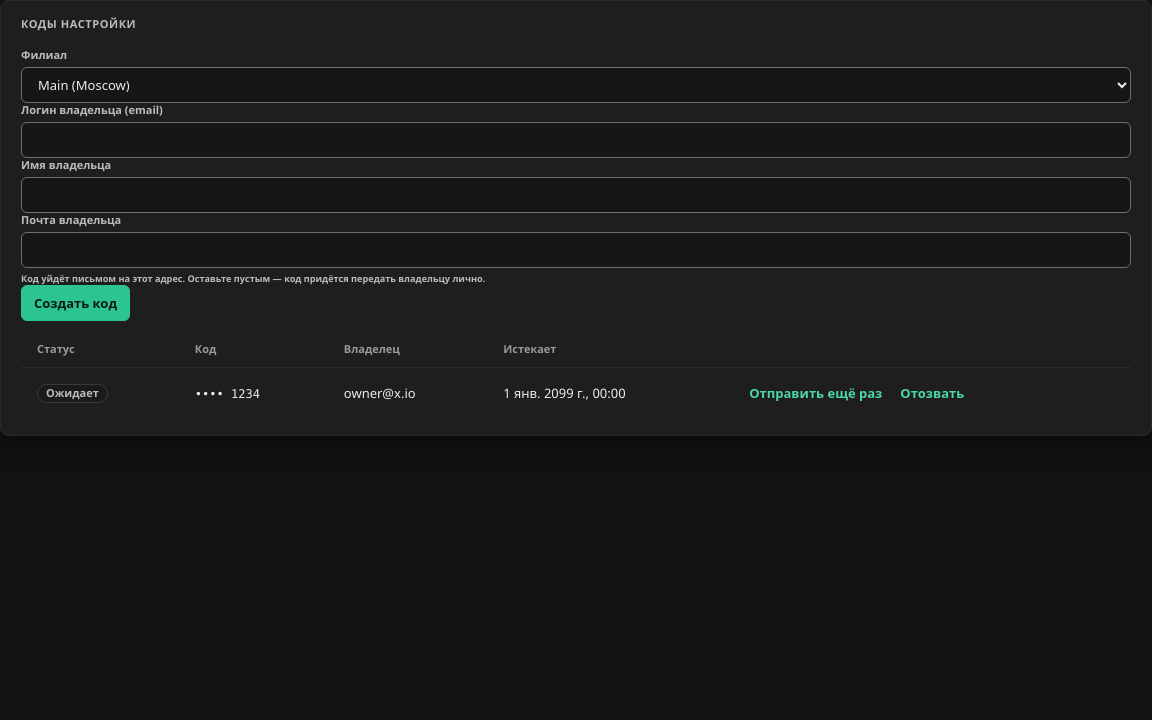
Test: отправляет письмо повторно и показывает короткое подтверждение
The image size is (1152, 720).
Click the button "Отправить ещё раз" at [816, 393], box top-left (740, 379), bottom-right (891, 407)
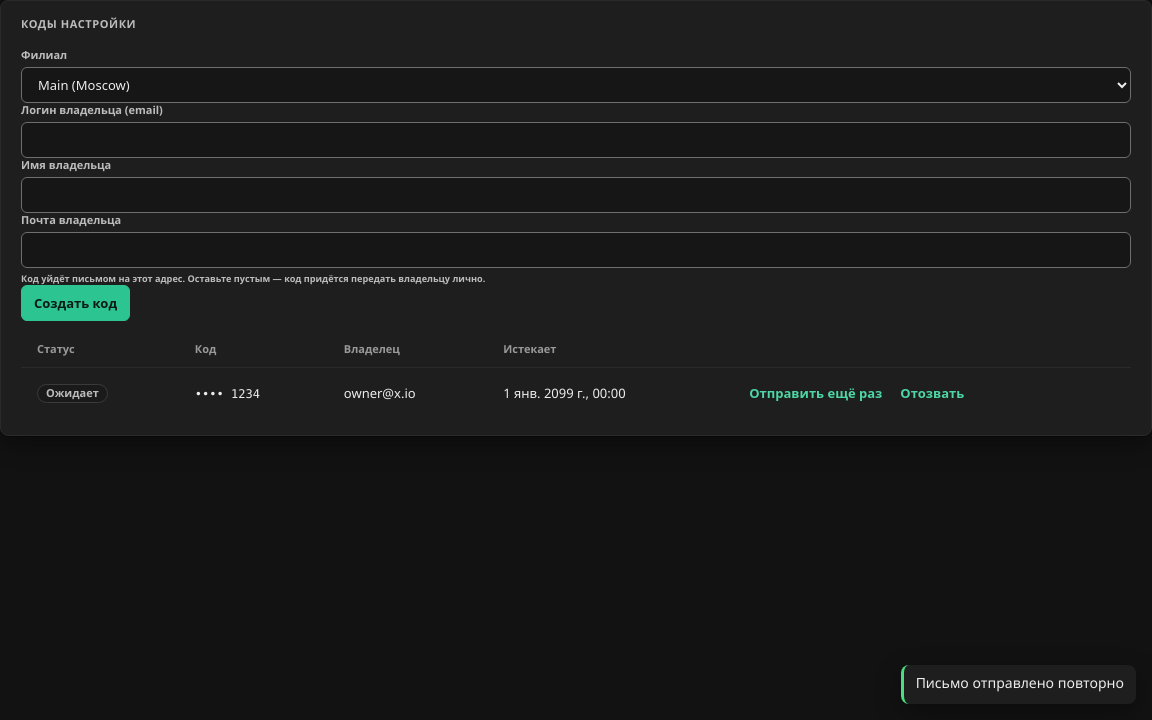
Check: the text "Письмо отправлено повторно" is shown, box top-left (916, 675), bottom-right (1124, 694)
